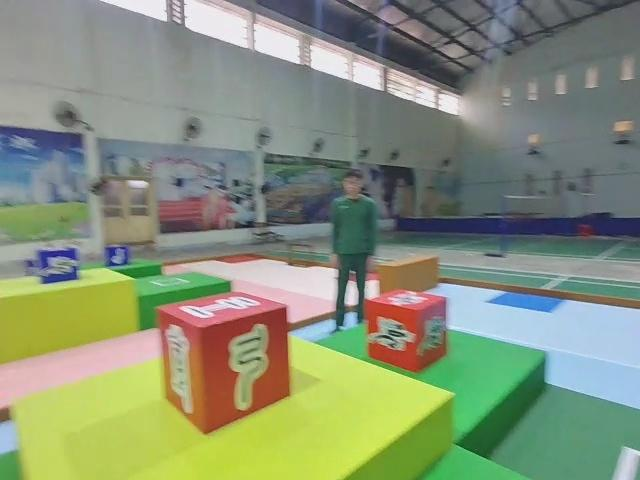R1: (364, 288, 449, 374)
R2 Fake: (154, 288, 294, 436)
